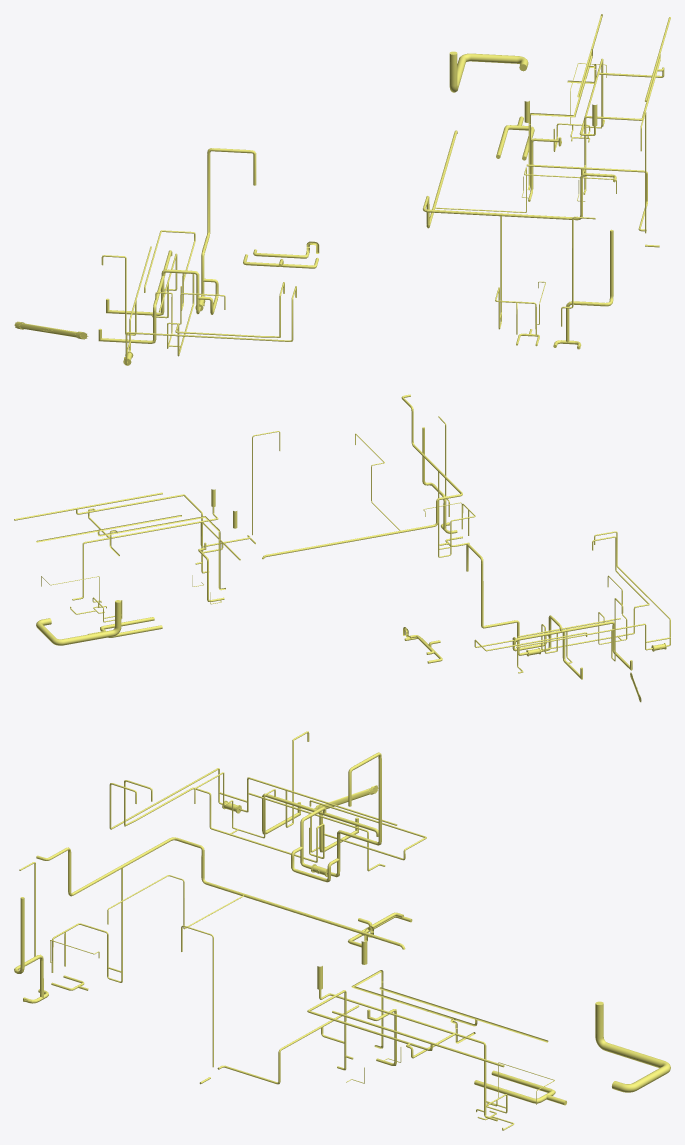
Rendered from NoLod_17.glb.
The picture shows the model from 3 angles, top to bottom: view 1: azimuth 30°, elevation 25°; view 2: azimuth 150°, elevation 25°; view 3: azimuth 270°, elevation 25°; orthographic projection. The views are drawn at different scales.
Parts seen in each view (by area): view 1: rtc; view 2: rtc; view 3: rtc.
Part boxes in pixels (x1,y1,x2,y2): rtc: (14, 14, 670, 365); rtc: (14, 394, 670, 702); rtc: (14, 731, 670, 1130).
Bounding box in the file's own units: 62.6 × 13.44 × 46.12.
